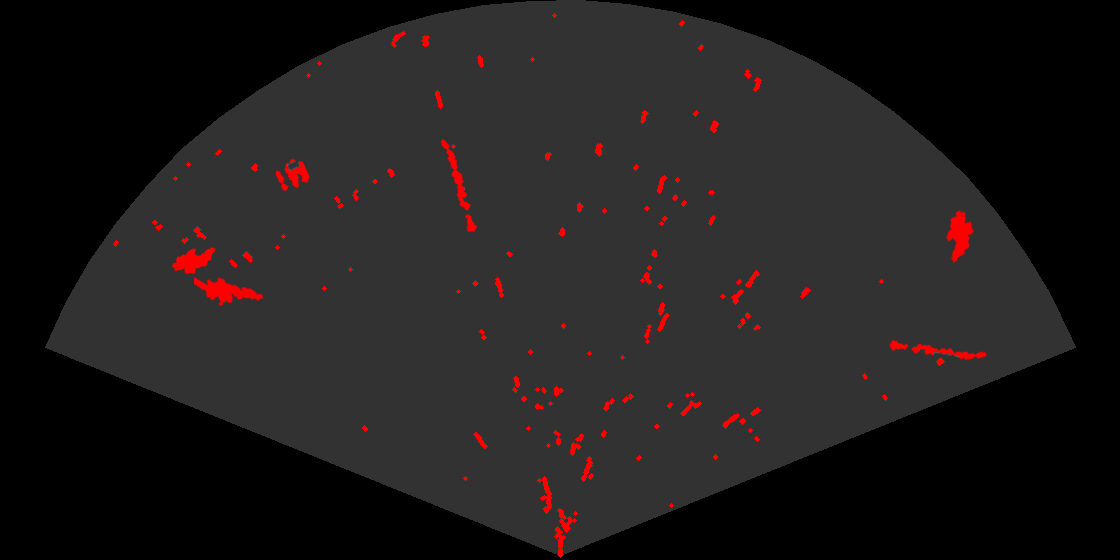AUV: (944, 208, 975, 264), (170, 246, 217, 276)
ball: (274, 157, 311, 193)
chain: (439, 138, 479, 234), (887, 339, 989, 362)
frogman: (194, 275, 265, 308)
